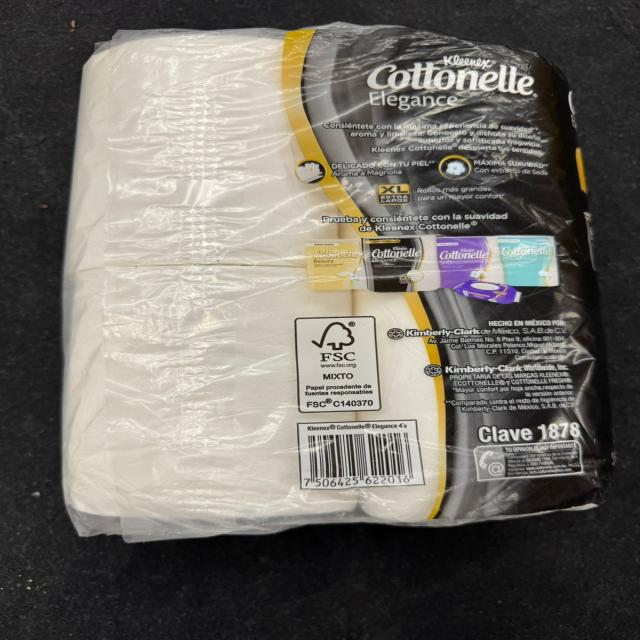Higienico Cottonelle Elegance XL 252h: (66, 22, 630, 541)
